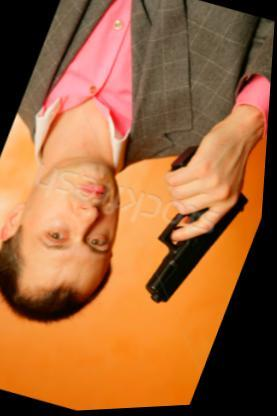pistol: (120, 138, 268, 338)
